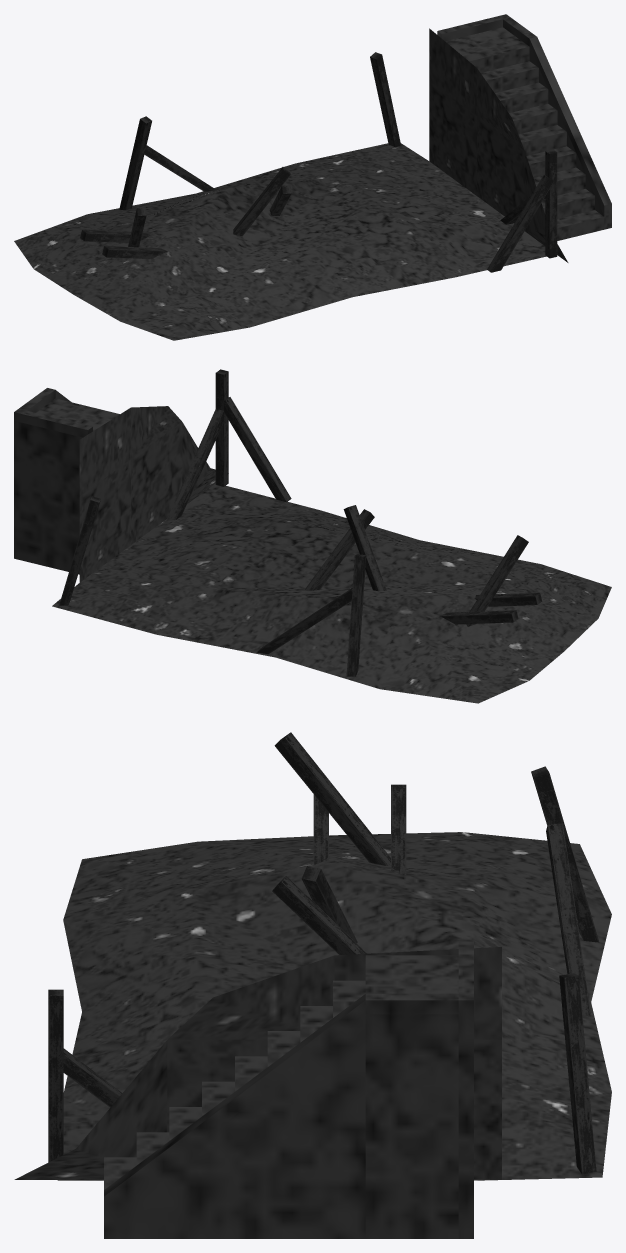
The model's file is MedievalHouse_001_destroyed_001.dae.
3 renders of one model, top to bottom at view 1: azimuth 30°, elevation 25°; view 2: azimuth 150°, elevation 25°; view 3: azimuth 270°, elevation 25°, orthographic. The views are drawn at different scales.
Visible parts, largest first — view 1: MedievalHouse_001_destroyed_001; view 2: MedievalHouse_001_destroyed_001; view 3: MedievalHouse_001_destroyed_001.
Part boxes in pixels (x1,y1,x2,y2): MedievalHouse_001_destroyed_001: [14, 14, 611, 340]; MedievalHouse_001_destroyed_001: [14, 369, 611, 703]; MedievalHouse_001_destroyed_001: [14, 732, 611, 1238].
Size of the model in its own units: 62.15 by 38.61 by 17.
1 material, 1 textured.
